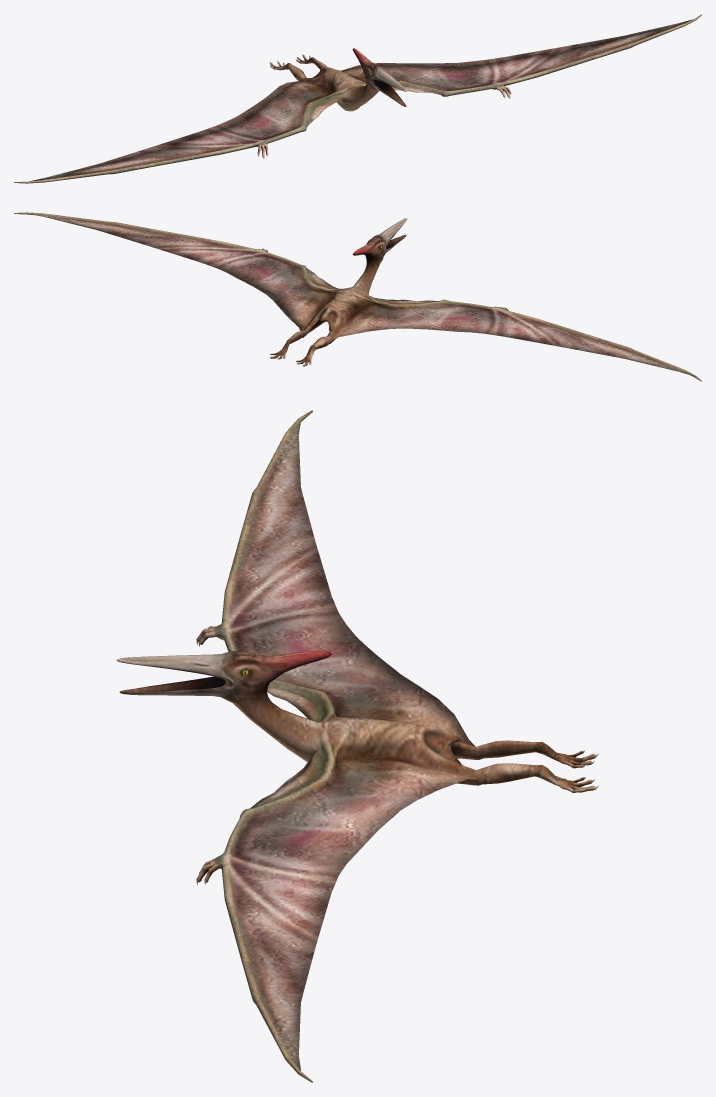
The model's file is ptero.obj.
3 renders of one model, top to bottom at view 1: azimuth 30°, elevation 25°; view 2: azimuth 150°, elevation 25°; view 3: azimuth 270°, elevation 25°, orthographic. The views are drawn at different scales.
Visible parts, largest first — view 1: ptero; view 2: ptero; view 3: ptero.
Part boxes in pixels (x1,y1,x2,y2): ptero: (14,14,701,183); ptero: (14,212,701,381); ptero: (116,410,599,1082).
Bounding box in the file's own units: 11 × 1.01 × 3.35.
1 material, 1 textured.
